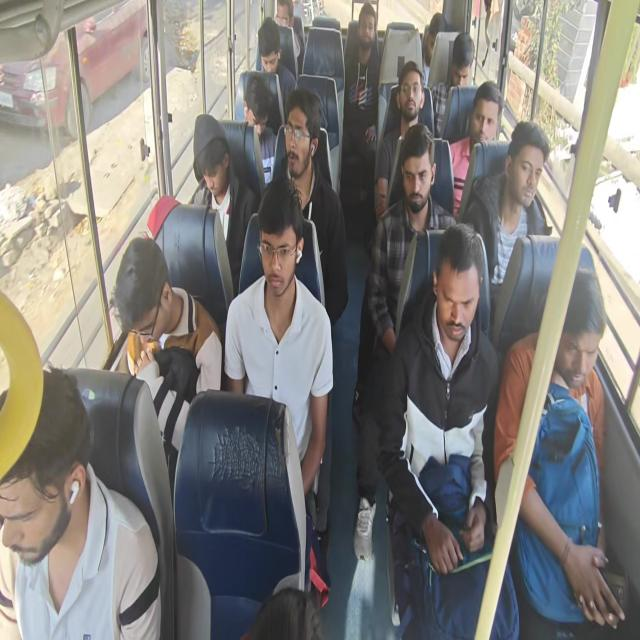person: (376, 222, 520, 638), (493, 266, 625, 635), (352, 123, 459, 561), (0, 367, 161, 639), (223, 176, 334, 528), (110, 236, 222, 507), (270, 88, 349, 325), (465, 120, 551, 301), (192, 113, 258, 298), (339, 3, 381, 234), (374, 60, 429, 221), (449, 81, 503, 215), (430, 32, 474, 136), (241, 586, 323, 639), (256, 17, 296, 124), (242, 73, 277, 186), (274, 0, 304, 78), (421, 12, 448, 87)
